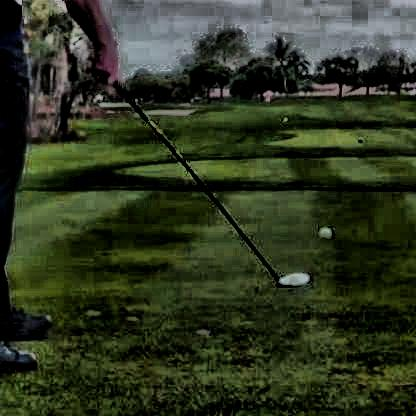golfball: (315, 223, 330, 239)
